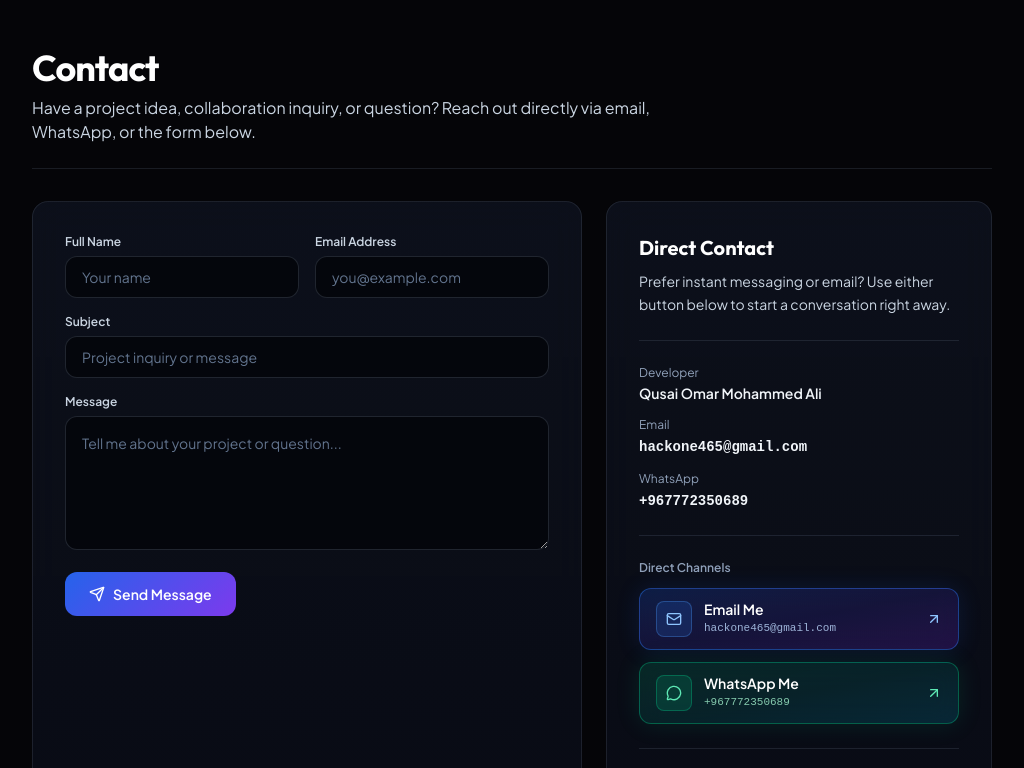
Test: Contact Form and Direct Email / WhatsApp Links › validates form inputs and submits valid inquiries to /api/contact
The width and height of the screenshot is (1024, 768).
Click the button "Send Message" at (150, 594), box [65,572,236,616]
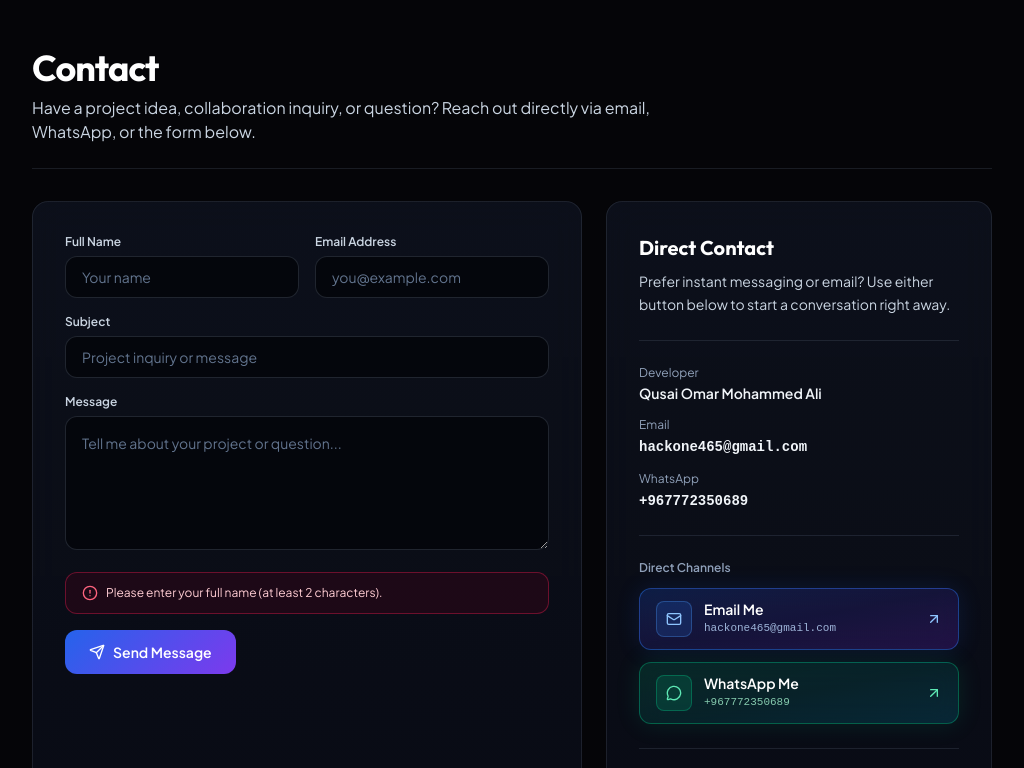
Result: the message shows "full name" at [106,585,382,600]
Type "Qusai Ali" into the field labelled "Full Name" at (182, 277), box [65,256,299,298]
Type "invalid-email" into the field labelled "Email Address" at (432, 277), box [315,256,549,298]
Click the button "Send Message" at (150, 652), box [65,630,236,674]
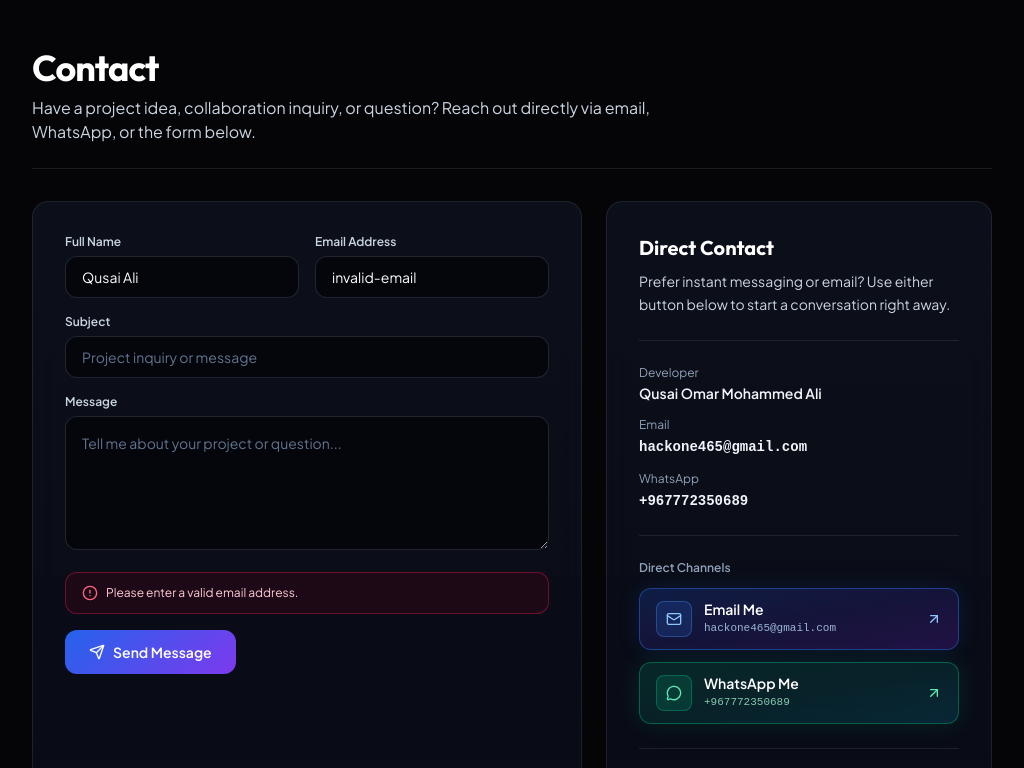
Result: the message shows "valid email" at [106,585,298,600]
Replace the text in the field labelled "Email Address" with "qusai@example.com" at (432, 277), box [315,256,549,298]
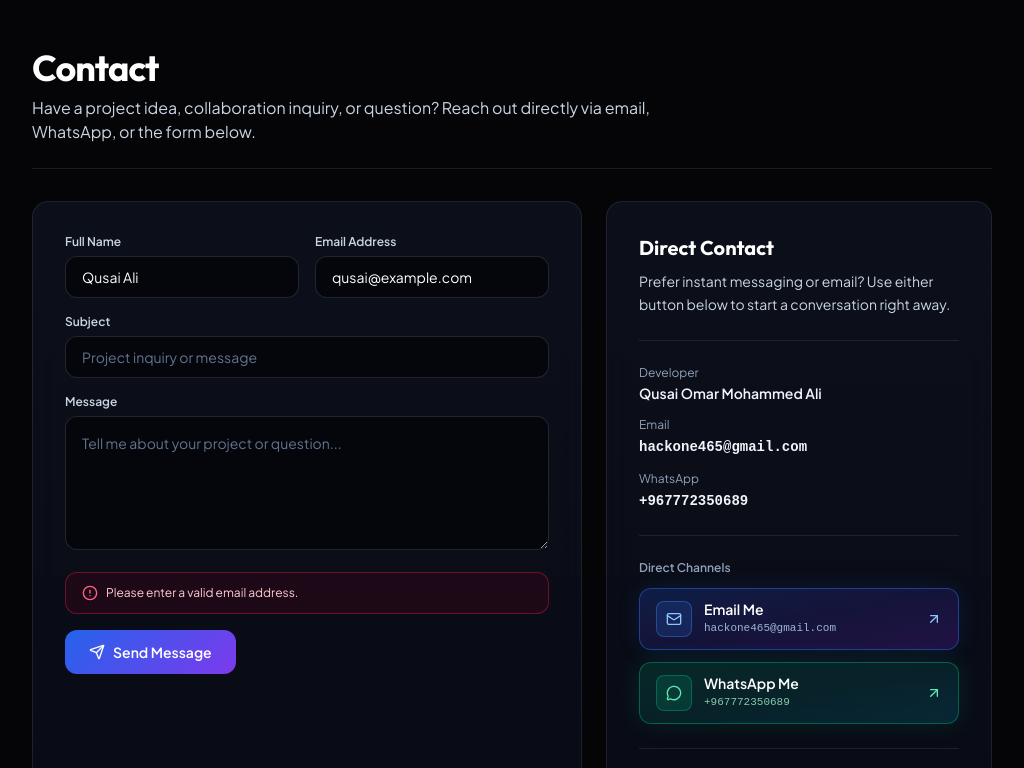
Type "Project Inquiry" into the field labelled "Subject" at (307, 357), box [65,336,549,378]
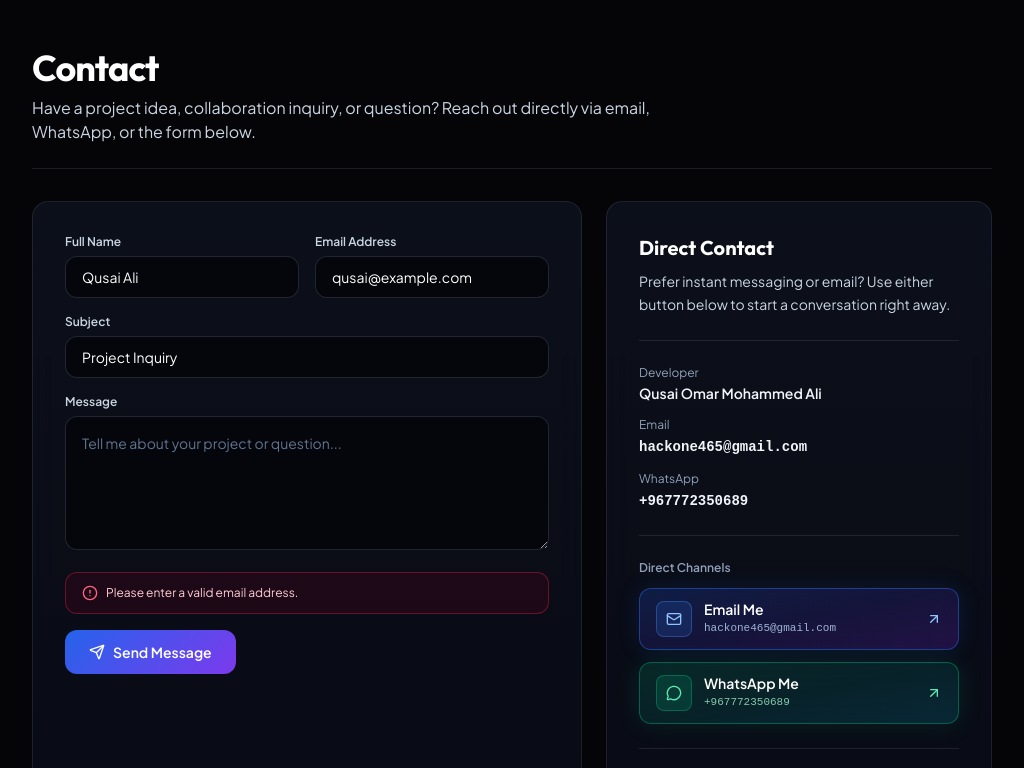
Type "Interested in collaborating on a custom Flutter and Laravel platform." into the text box labelled "Message" at (307, 483), box [65,416,549,550]
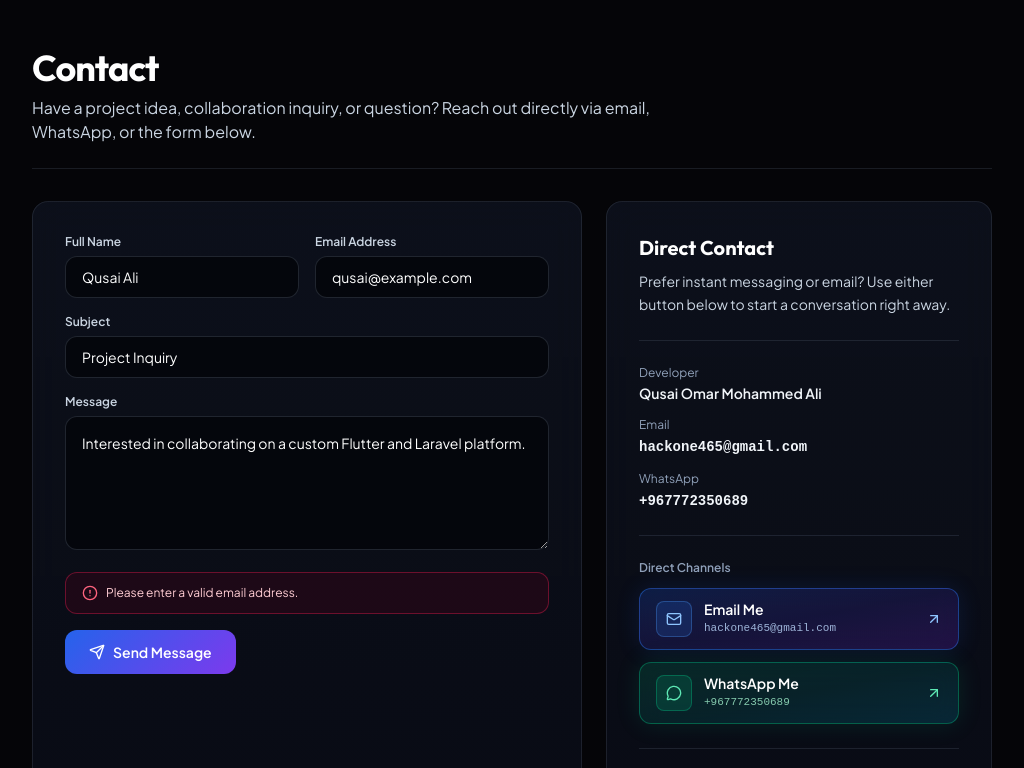
Click the button "Send Message" at (150, 652), box [65,630,236,674]
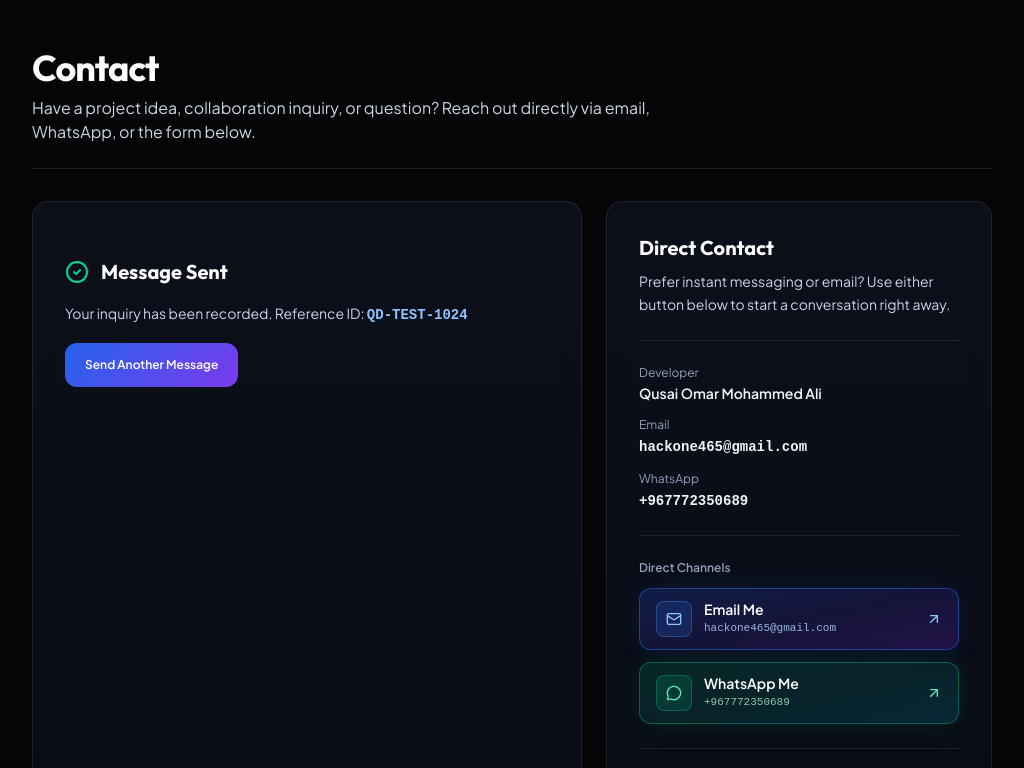
Result: the heading "Message Sent" is shown at [101,258,228,286]
Result: the text "QD-TEST-1024" is shown at [367,307,468,323]
